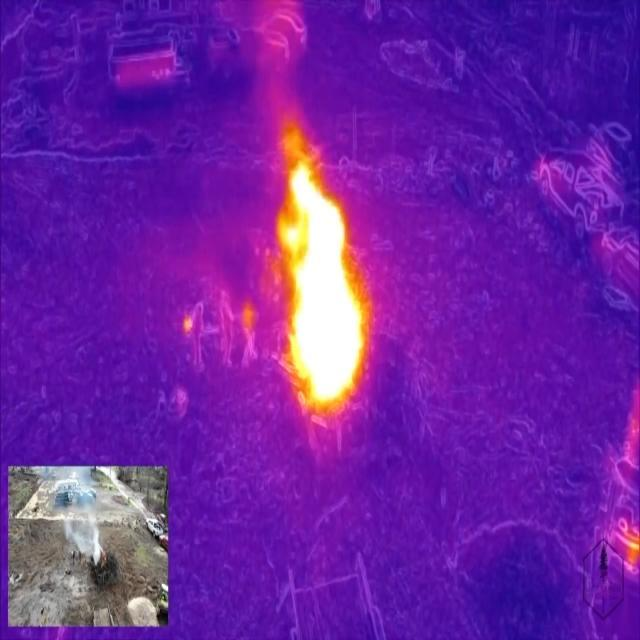fire: (276, 161, 368, 411)
